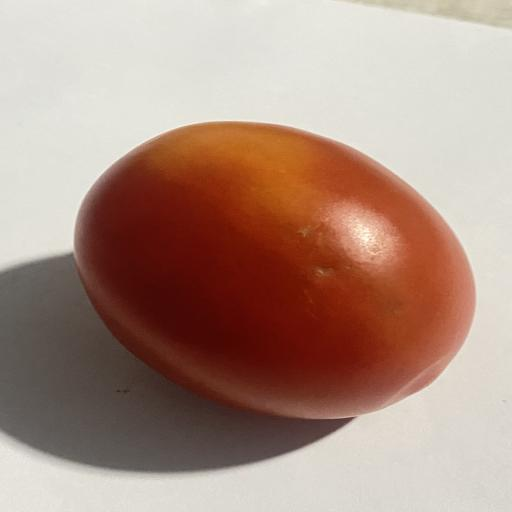ripe: (75, 122, 475, 419)
